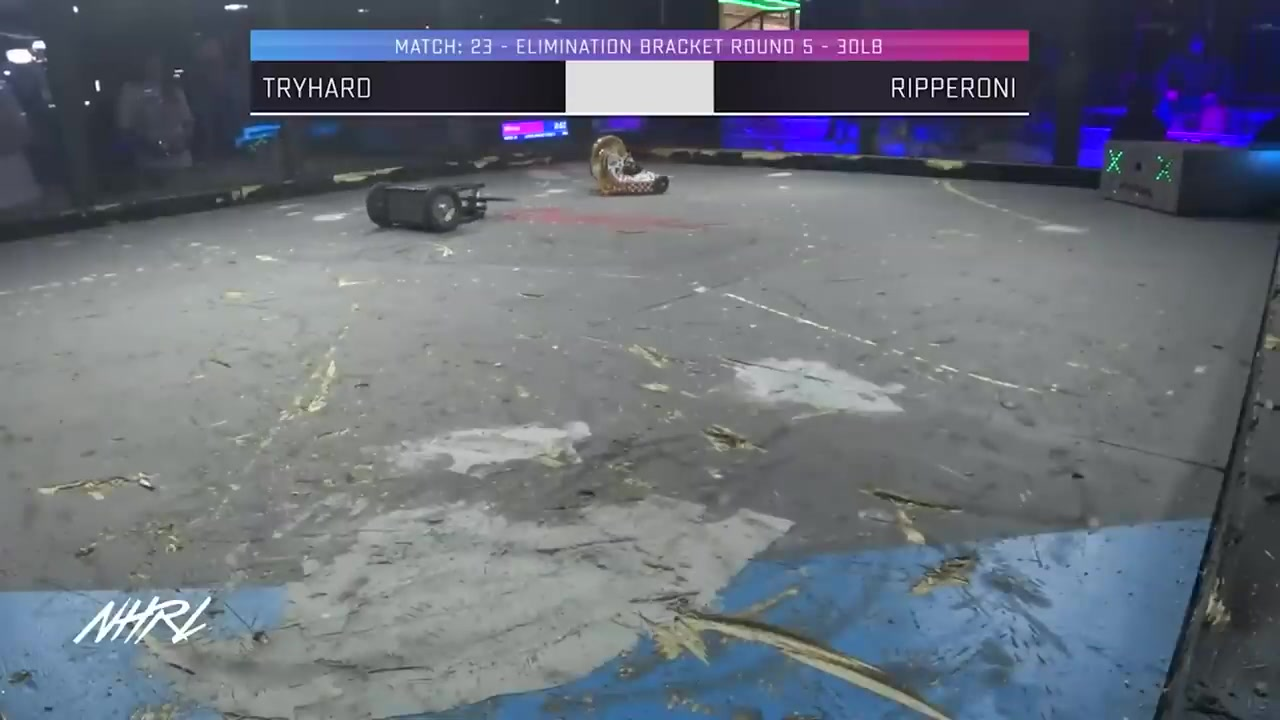combatbot: (364, 178, 487, 232), (585, 136, 669, 198)
housebot: (1098, 143, 1279, 220)
